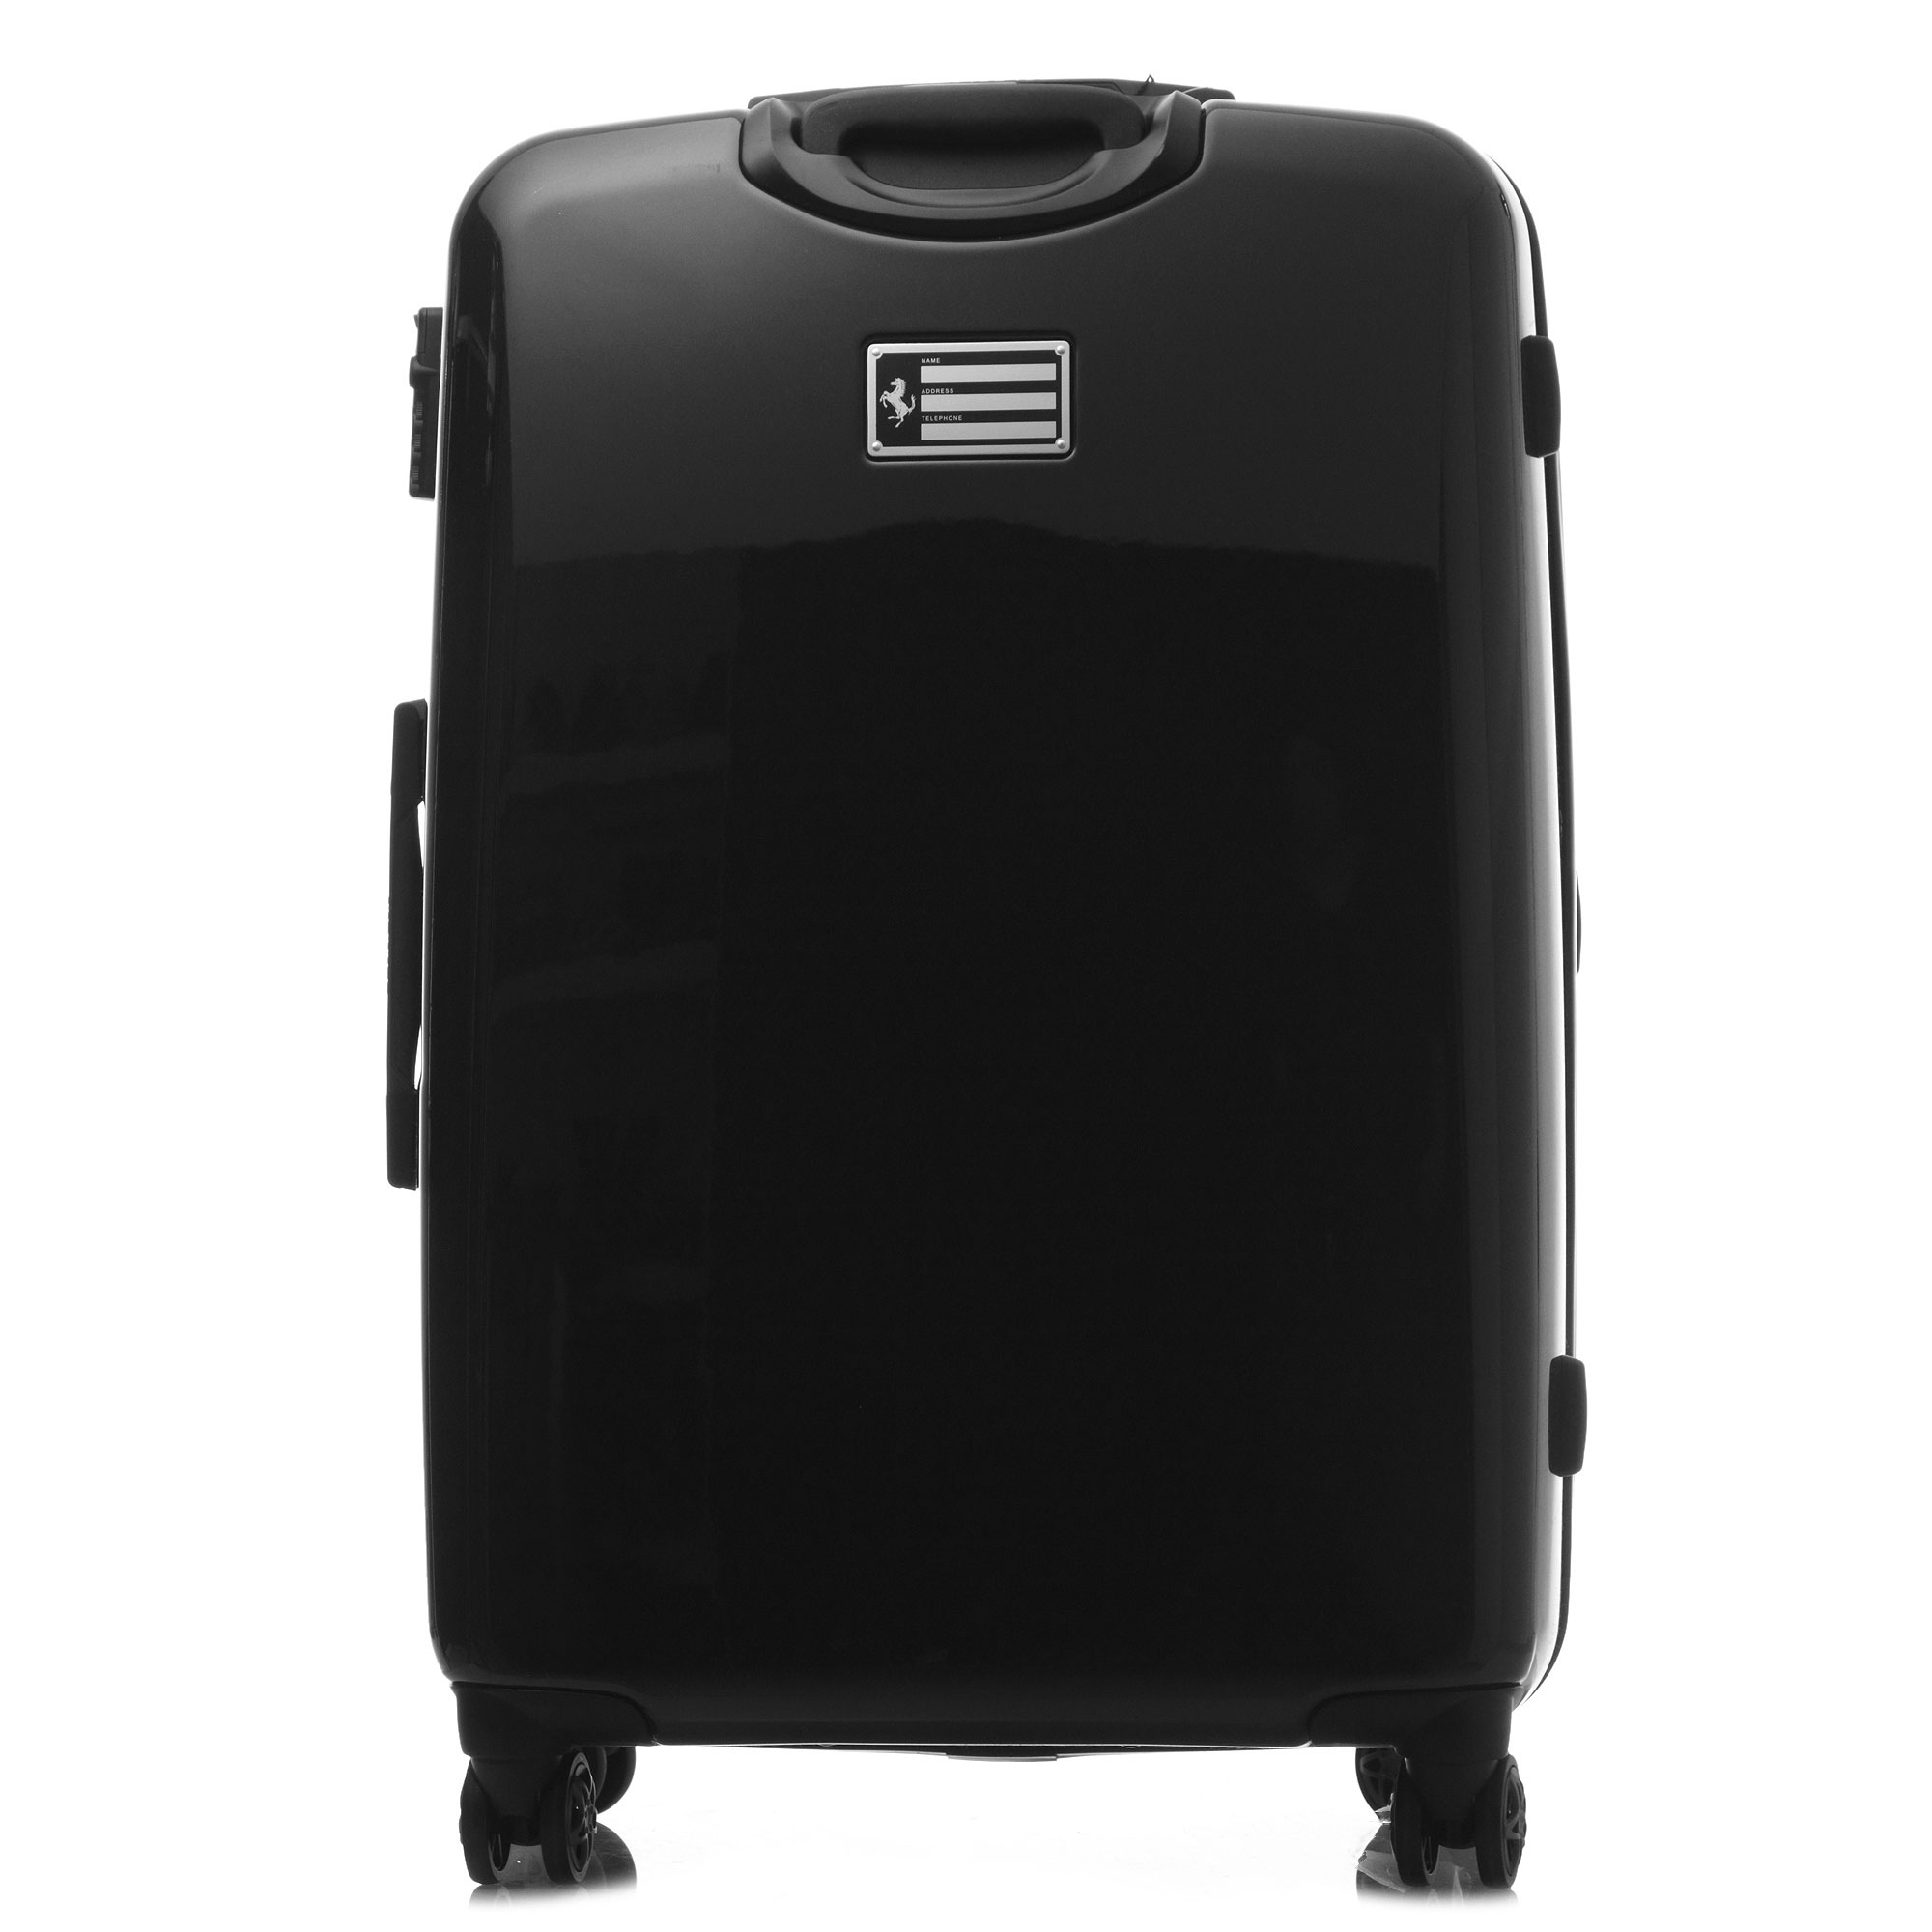luggage: (387, 71, 1598, 1886)
